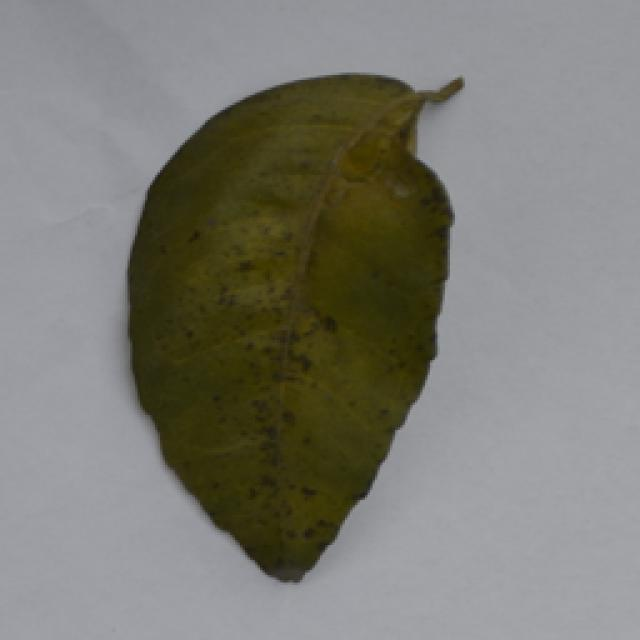blackspot: (117, 62, 508, 581)
